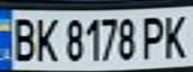1: (81, 15, 103, 62)
7: (100, 15, 121, 62)
8: (115, 14, 142, 62), (63, 15, 84, 62)
B: (6, 14, 39, 63)
K: (157, 11, 193, 60), (30, 15, 60, 63)
P: (136, 11, 172, 61)
